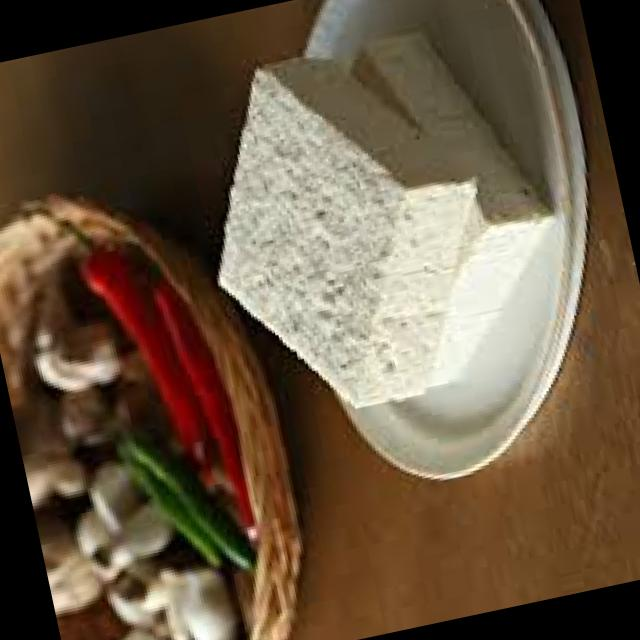tof: (150, 0, 597, 426)
